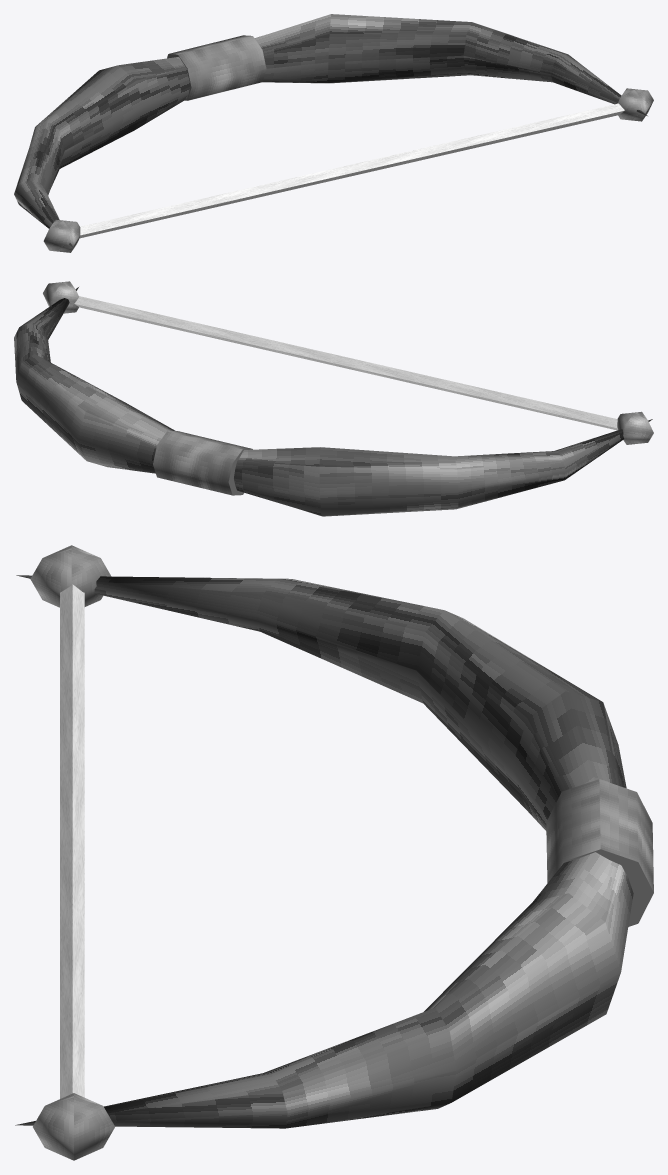
File: goldbow.obj
3 renders of one model, top to bottom at view 1: azimuth 30°, elevation 25°; view 2: azimuth 150°, elevation 25°; view 3: azimuth 270°, elevation 25°, orthographic. The views are drawn at different scales.
Visible parts, largest first — view 1: Cylinder02, Box01, Cylinder03, Duplicate01, Sphere01; view 2: Cylinder02, Box01, Cylinder03, Duplicate01, Sphere01; view 3: Cylinder02, Box01, Cylinder03, Sphere01, Duplicate01.
Part boxes in pixels (left/top/right/bottom): Cylinder02: left=14, top=14, right=647, bottom=247; Box01: left=80, top=103, right=624, bottom=238; Cylinder03: left=167, top=35, right=266, bottom=100; Duplicate01: left=43, top=219, right=80, bottom=252; Sphere01: left=617, top=88, right=653, bottom=121; Cylinder02: left=14, top=287, right=652, bottom=516; Box01: left=74, top=296, right=617, bottom=430; Cylinder03: left=153, top=431, right=252, bottom=495; Duplicate01: left=617, top=411, right=653, bottom=444; Sphere01: left=43, top=281, right=78, bottom=313; Cylinder02: left=15, top=575, right=633, bottom=1128; Box01: left=60, top=584, right=84, bottom=1098; Cylinder03: left=546, top=779, right=653, bottom=926; Sphere01: left=33, top=1093, right=114, bottom=1160; Duplicate01: left=30, top=545, right=111, bottom=607.
Bounding box in the file's own units: 17.55 × 1.94 × 8.36.
